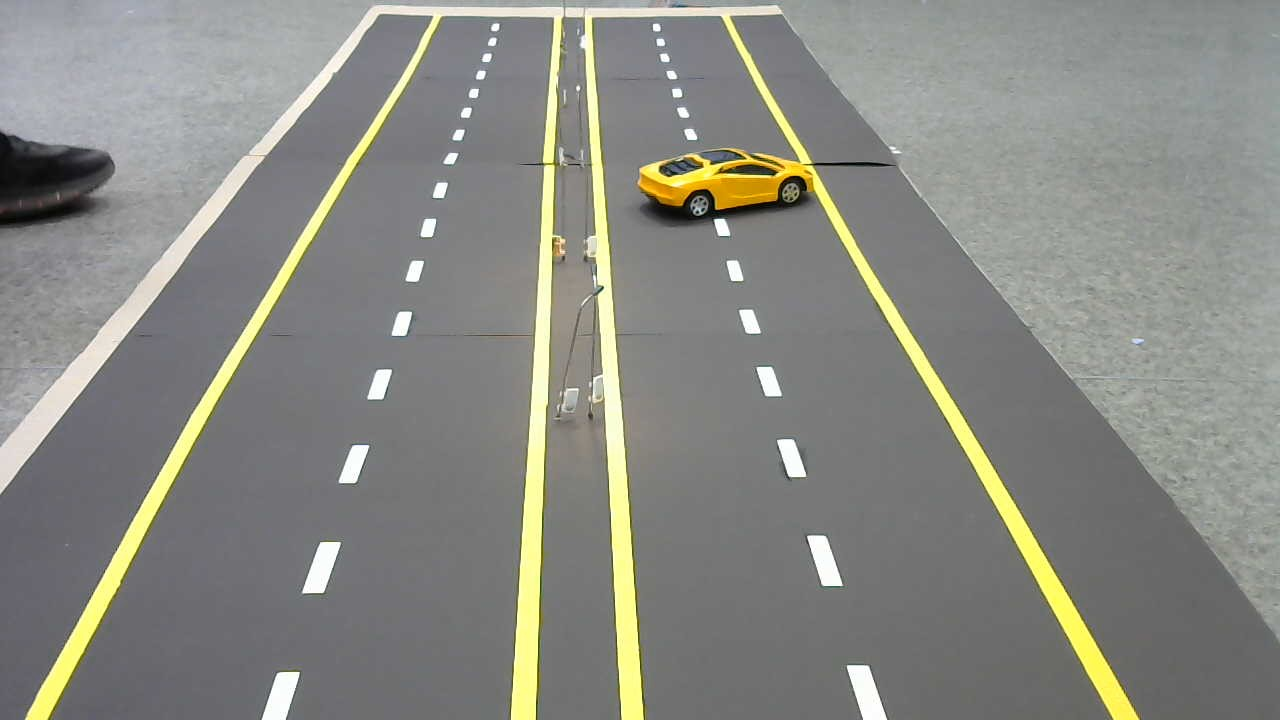overturn_car: (633, 141, 819, 225)
